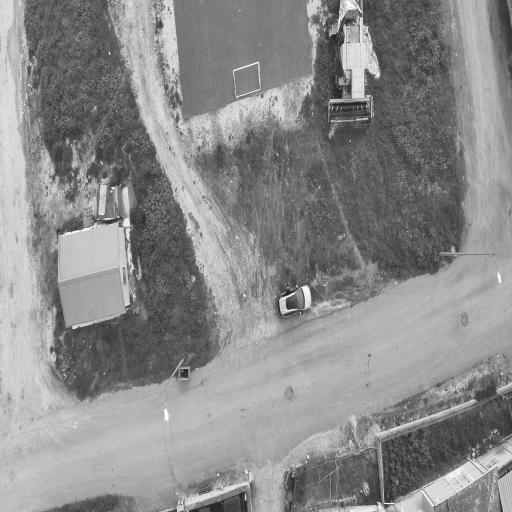car: (276, 284, 310, 316)
harvester: (328, 0, 371, 127)
